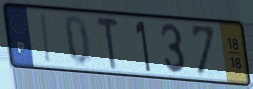0: (63, 14, 92, 69)
1: (134, 20, 153, 74)
3: (159, 21, 189, 76)
7: (190, 23, 217, 79)
I: (40, 11, 54, 66)
T: (94, 15, 121, 72)
